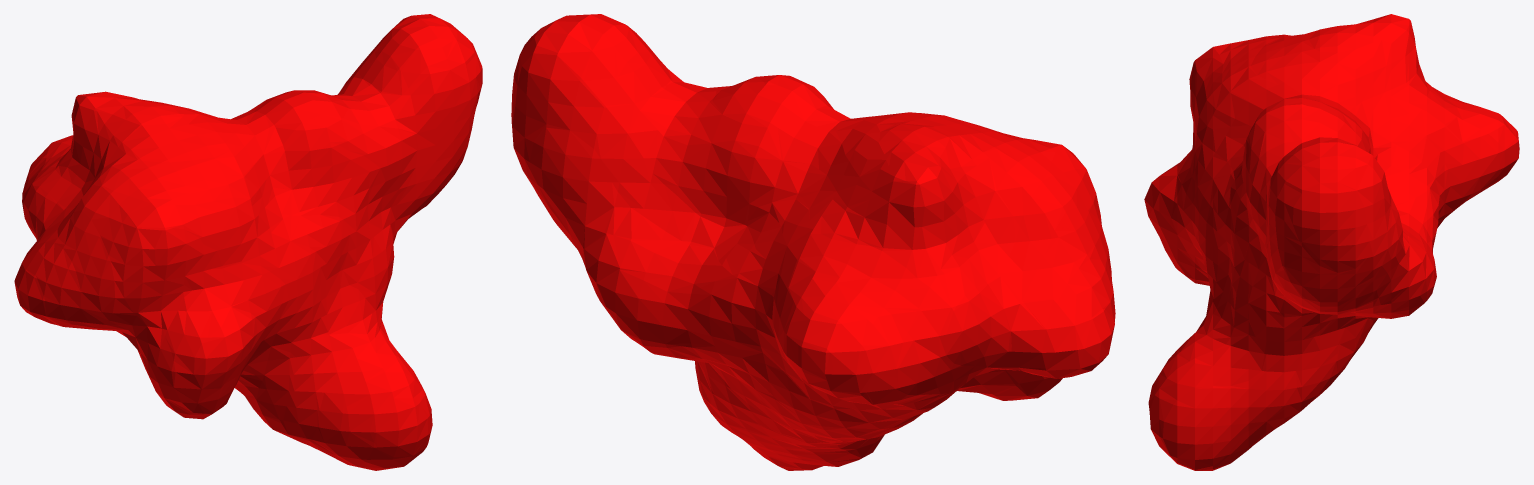
File: rplS_coarse.dae
The picture shows the model from 3 angles, left to right: view 1: azimuth 30°, elevation 25°; view 2: azimuth 150°, elevation 25°; view 3: azimuth 270°, elevation 25°; orthographic projection. The views are drawn at different scales.
Parts seen in each view (by area): view 1: rplS; view 2: rplS; view 3: rplS.
Part boxes in pixels (bbox=[...]): rplS: bbox=[14, 14, 482, 470]; rplS: bbox=[511, 14, 1115, 470]; rplS: bbox=[1144, 14, 1519, 470].
Bounding box in the file's own units: 55.83 × 43.46 × 39.15.
